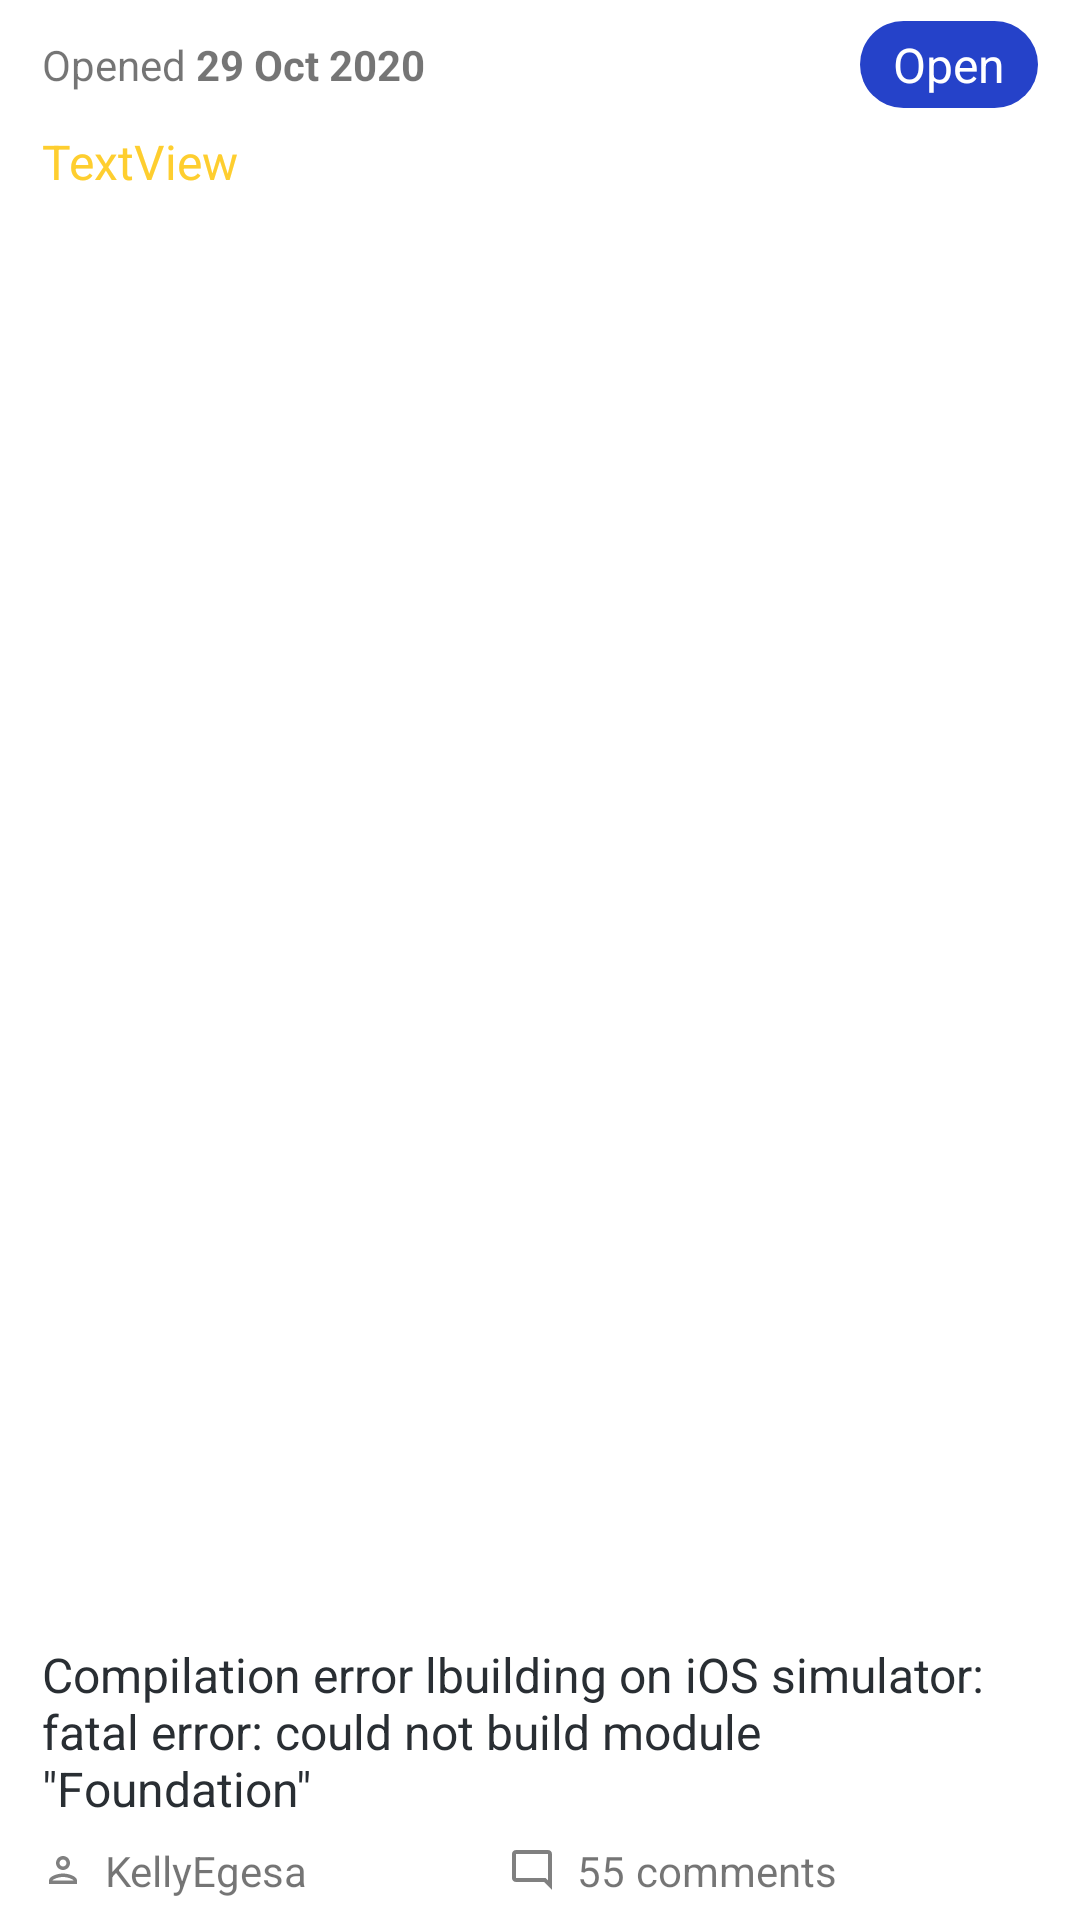

Named icons in this screenshot (1080×1920) and their bounding boxes, {"x1": x1, "y1": y1, "x2": x2, "y2": y2}:
mode comment: {"x1": 512, "y1": 1850, "x2": 552, "y2": 1890}
person: {"x1": 49, "y1": 1856, "x2": 77, "y2": 1884}
